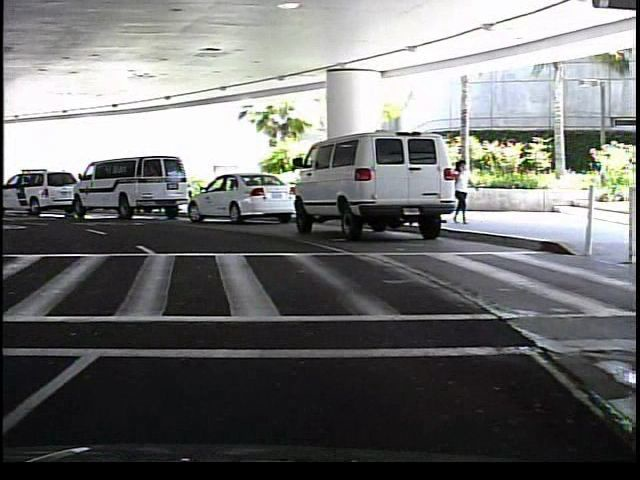person: (452, 154, 477, 226)
